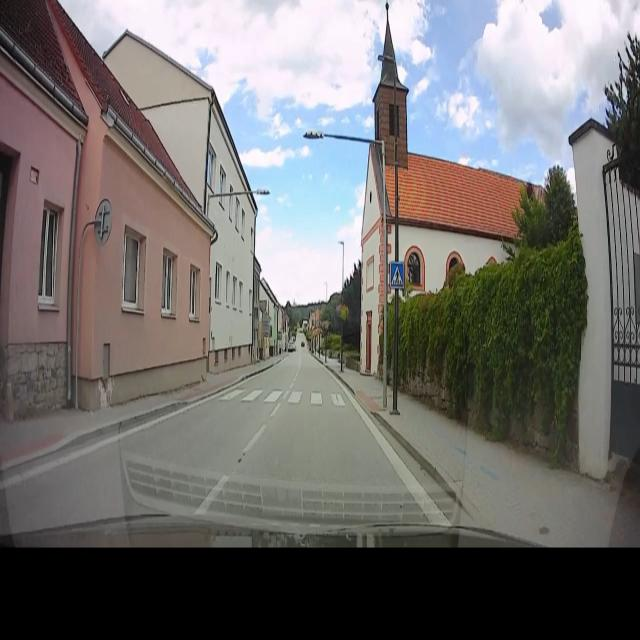Pedestrian crosswalk: (222, 379, 351, 417), (387, 259, 408, 290)
